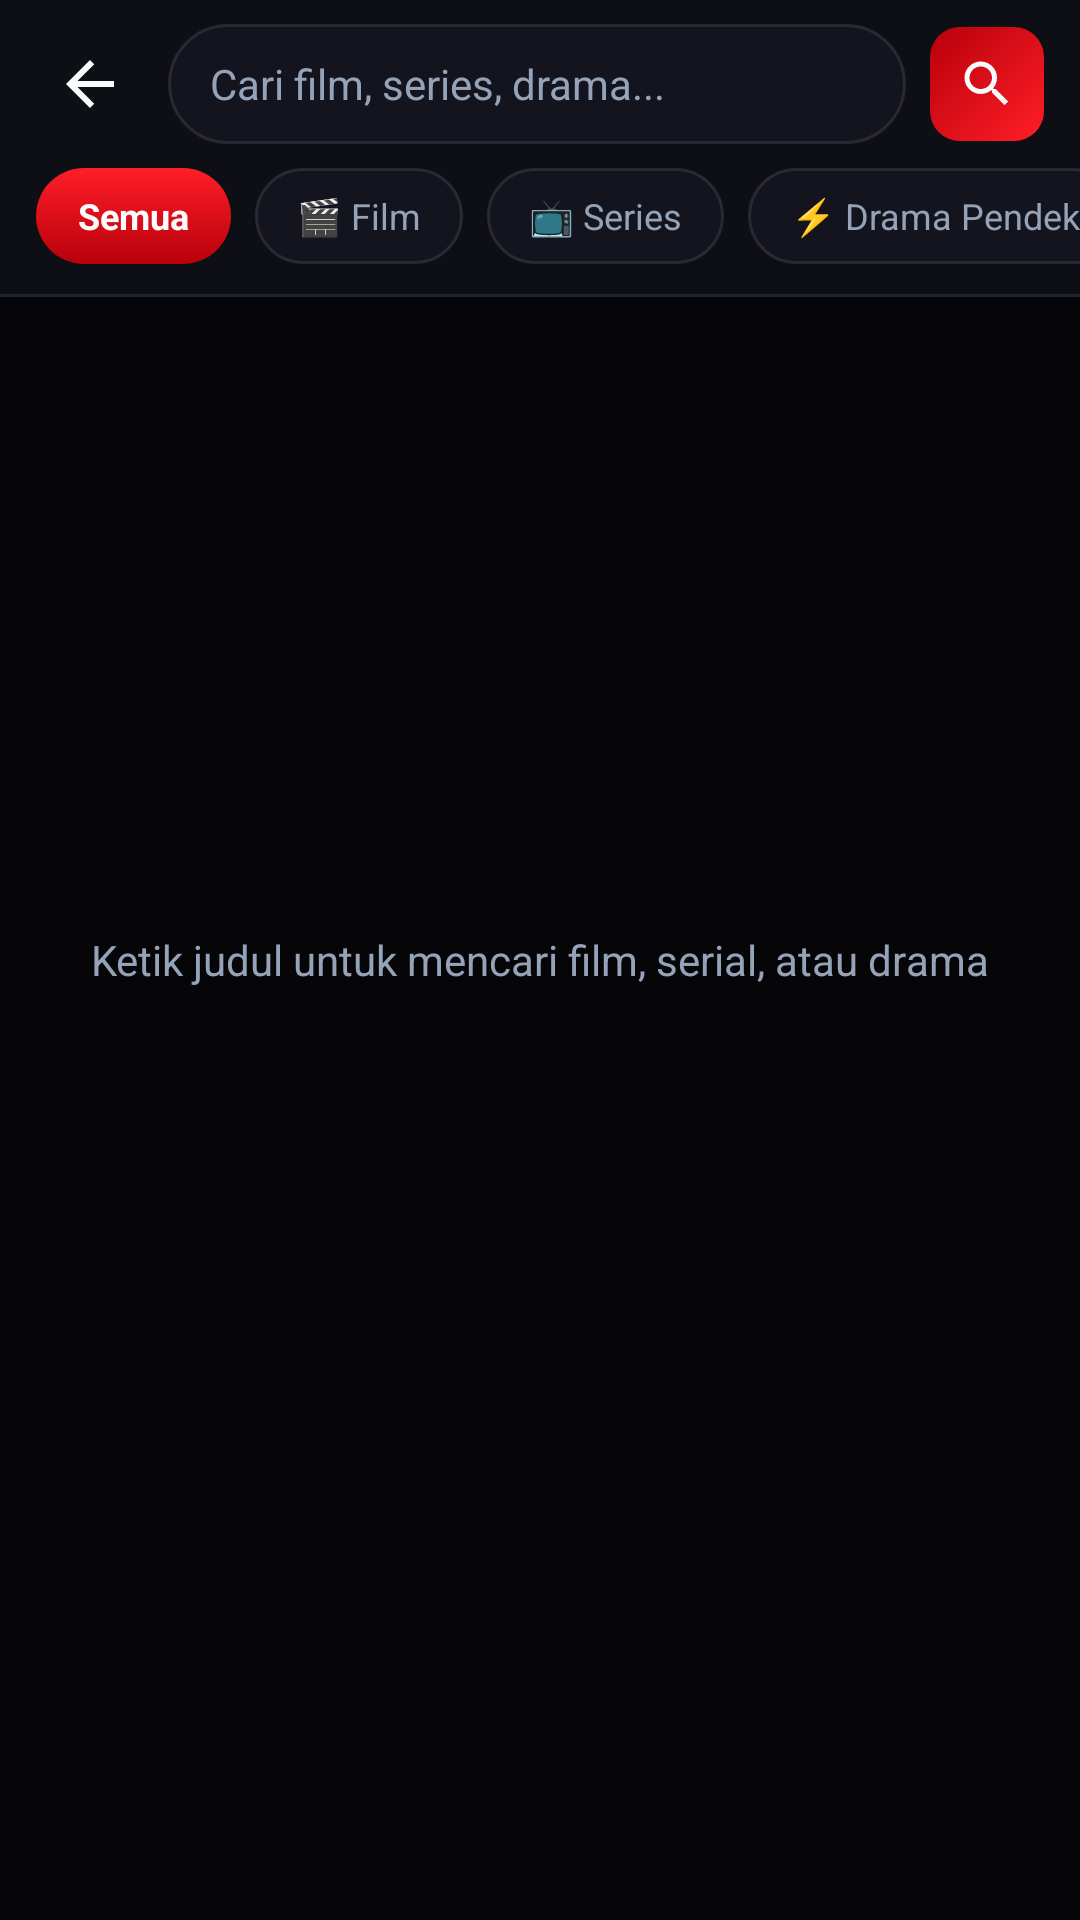

Point at icon controls on the screen. Image size 1080 × 1920, points as point (x, y).
Back: point (90, 84)
Submit Search: point (987, 84)
